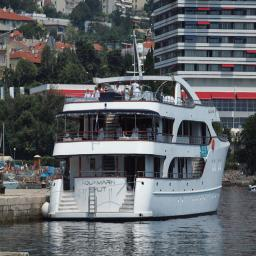cruises: (49, 39, 229, 222)
